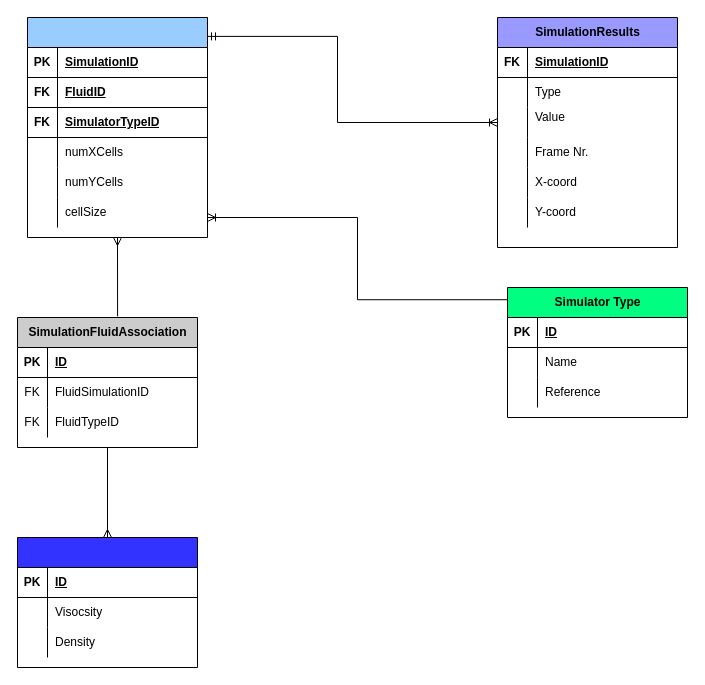
Some shapes in this 705 by 685 pixel diagram are drawn without their labels. The box of each missing label's shape, as (x1, y1, x2, y2) in pixels:
Fluid Type: (16, 536, 198, 668)
FluidSimulation: (26, 16, 208, 238)
